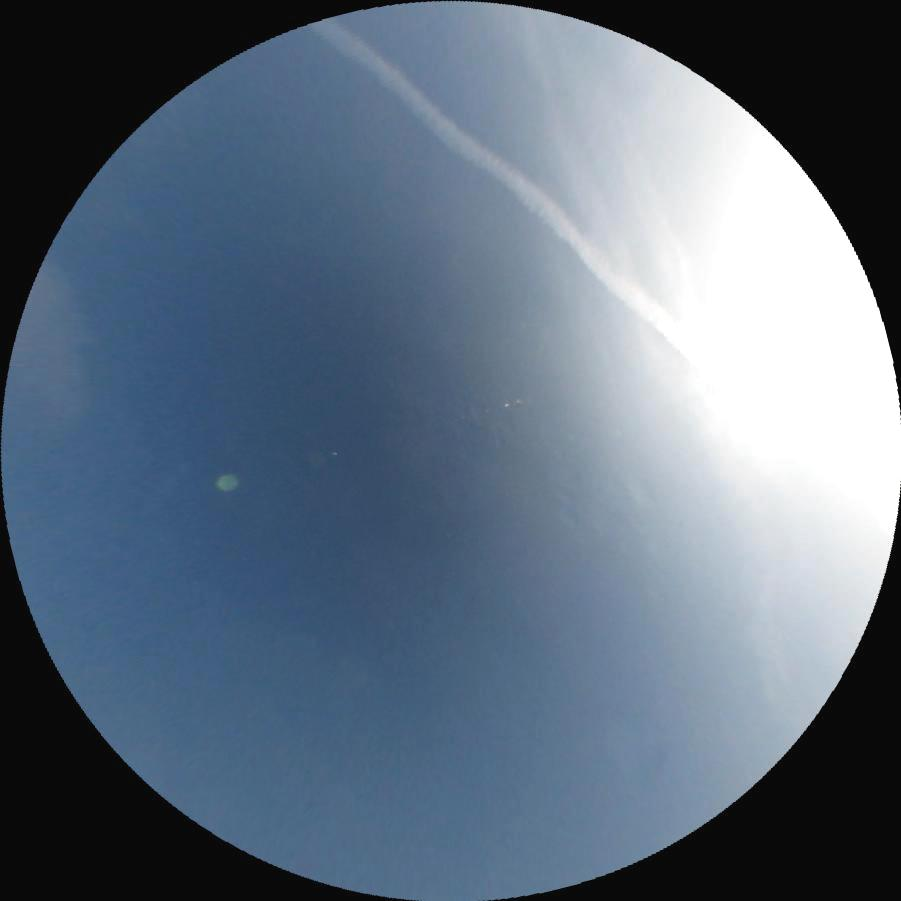contrail veryold: (302, 4, 900, 517)
